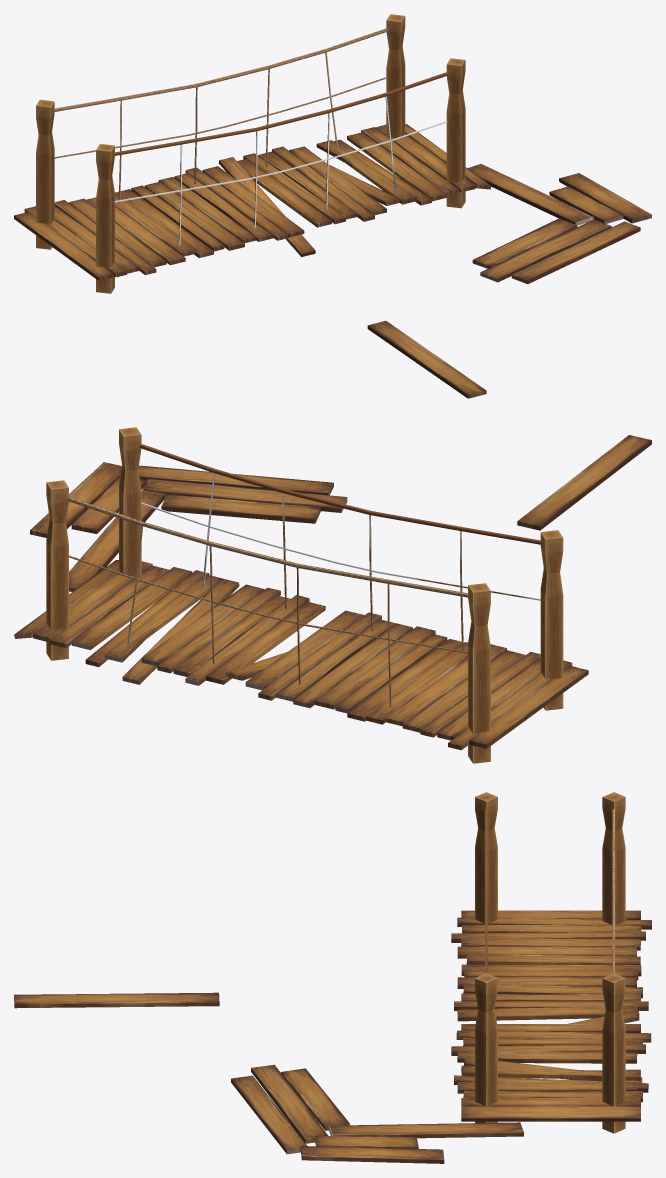
Rendered from C03_JUNGLE_BRIDGE_v05_cordasEponte.fbx.
3 renders of one model, top to bottom at view 1: azimuth 30°, elevation 25°; view 2: azimuth 150°, elevation 25°; view 3: azimuth 270°, elevation 25°, orthographic. The views are drawn at different scales.
Parts seen in each view (by area): view 1: Cube.020, Cube.038, Cube.050; view 2: Cube.020, Cube.038, Cube.050; view 3: Cube.020, Cube.050, Cube.038.
Boxes of the visible parts, x1,y1,x2,y2 form: Cube.020: (14, 124, 491, 280); Cube.038: (36, 14, 465, 293); Cube.050: (367, 164, 651, 398); Cube.020: (14, 560, 588, 750); Cube.038: (46, 427, 563, 763); Cube.050: (30, 435, 651, 591); Cube.020: (451, 910, 651, 1121); Cube.050: (14, 992, 523, 1163); Cube.038: (475, 792, 625, 1133).
Size of the model in its own units: 515 by 151 by 562.
